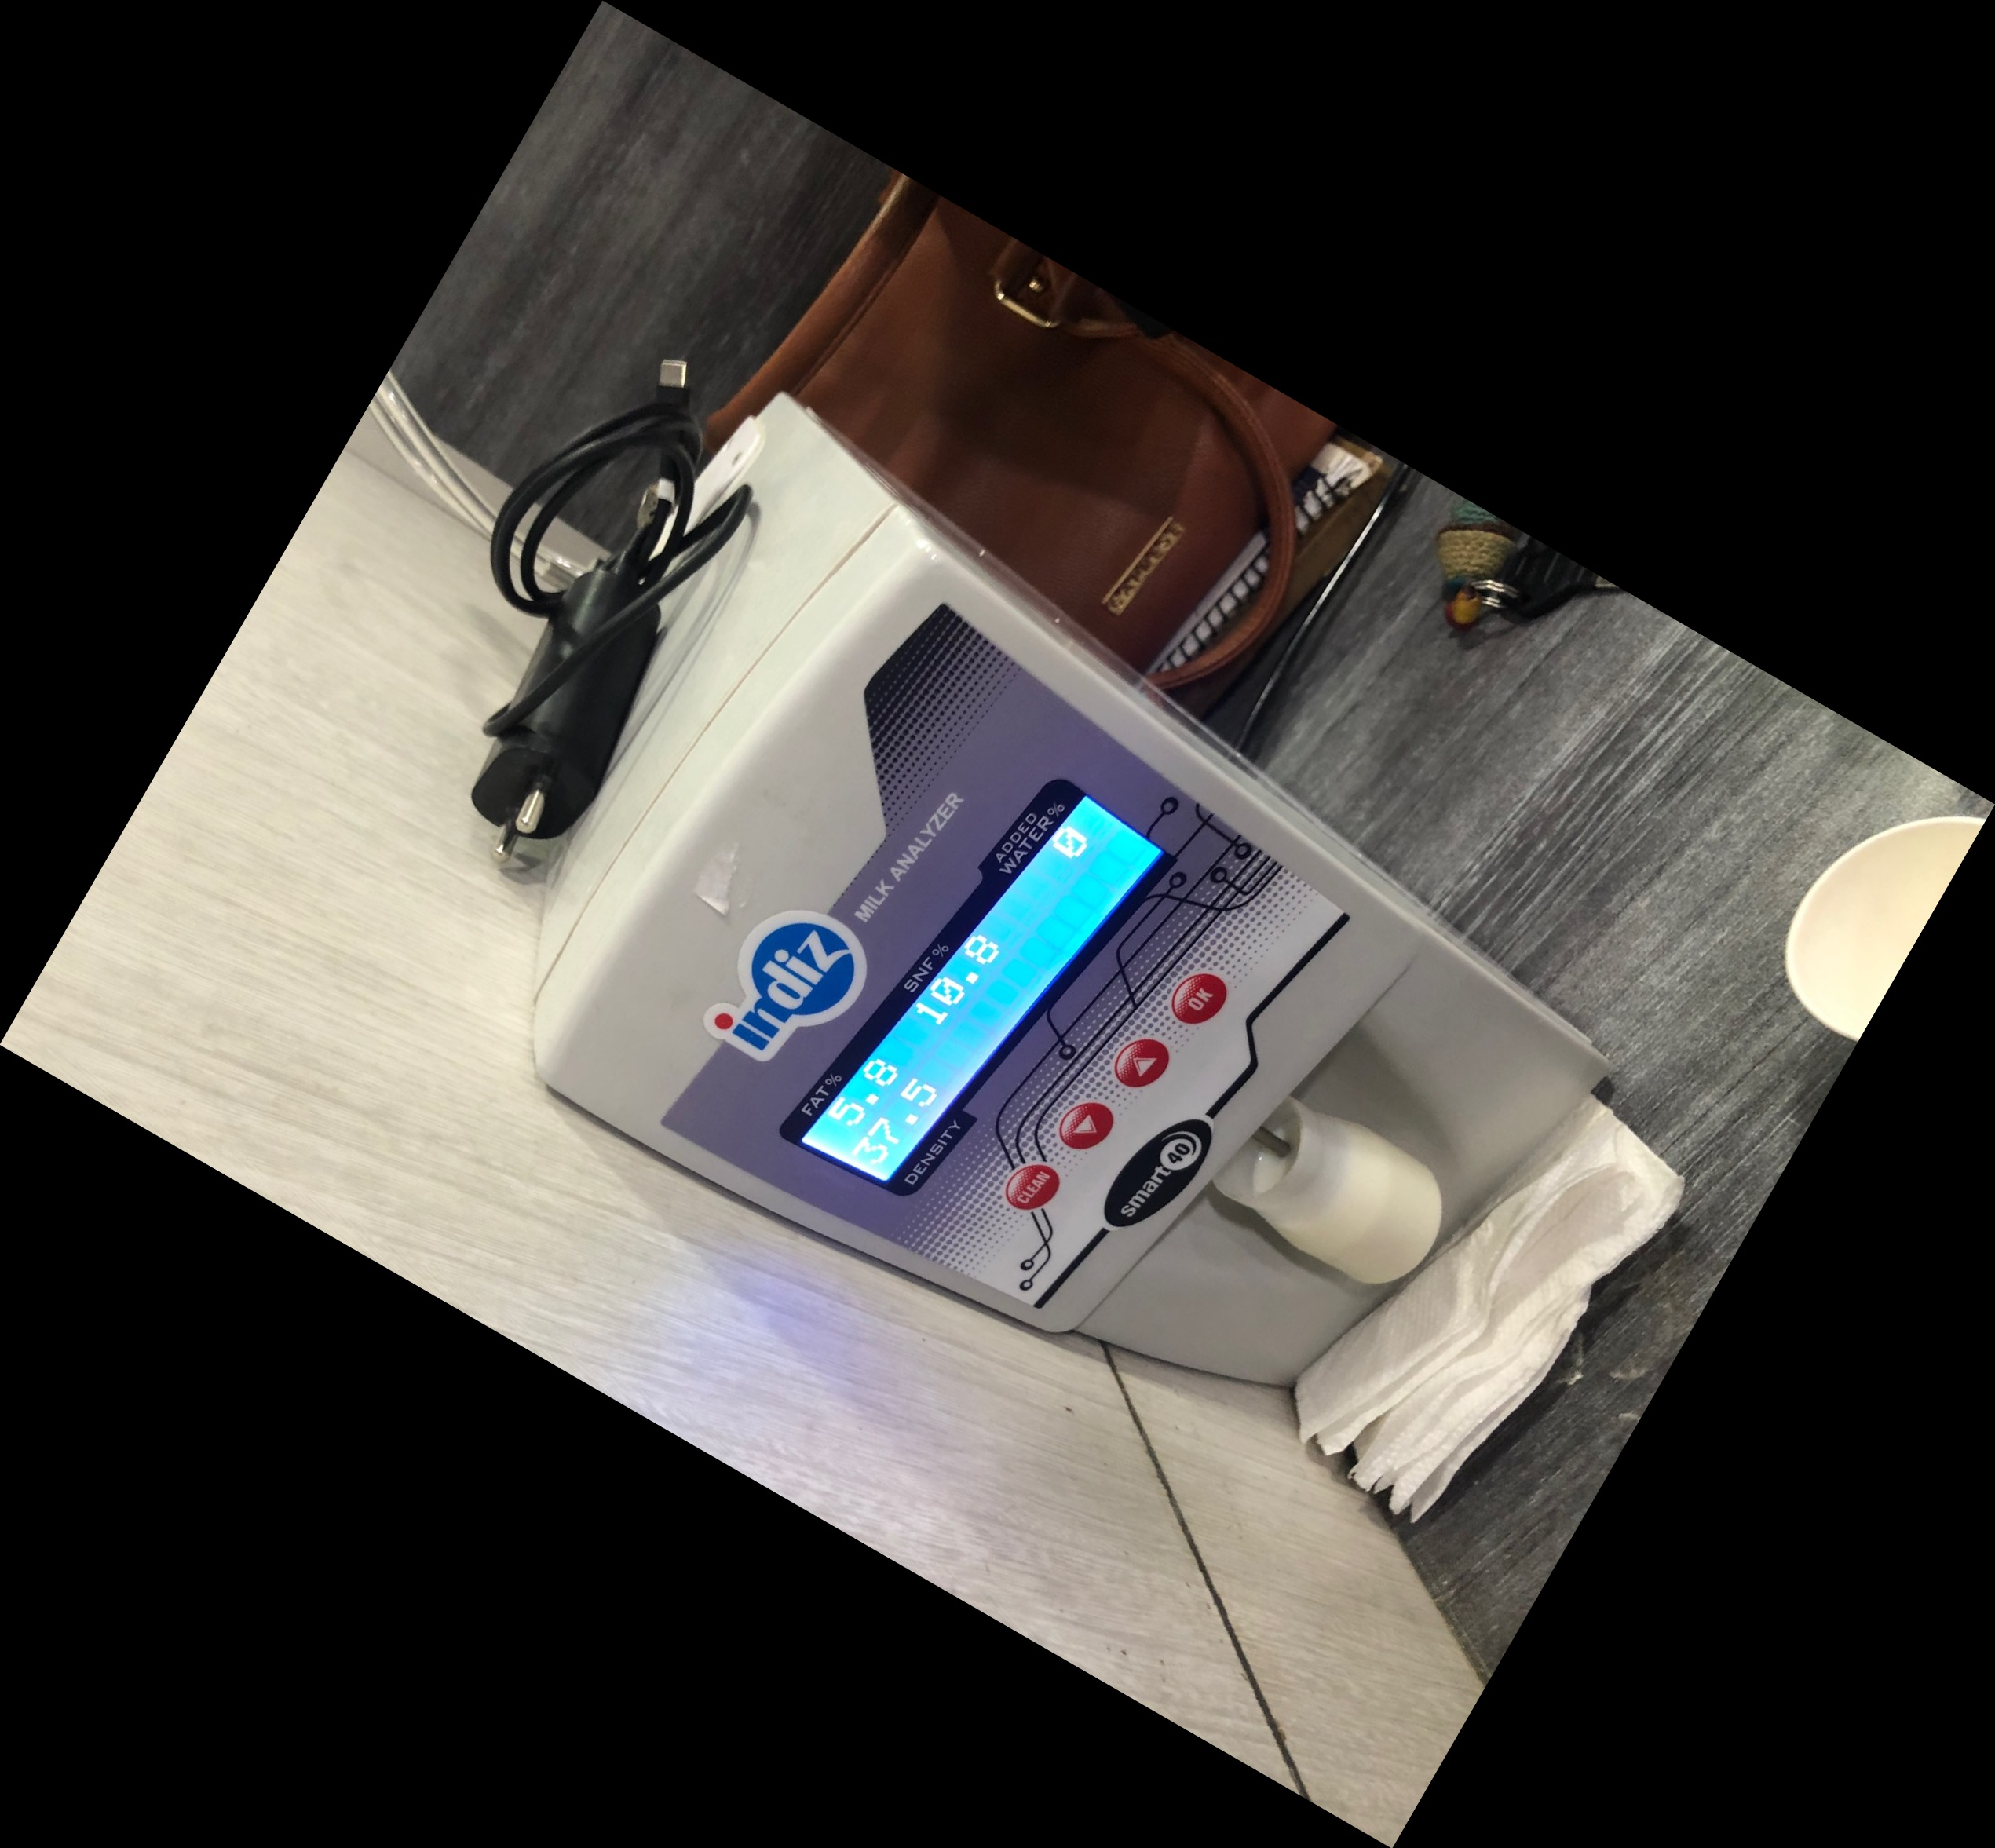lcd: (777, 764, 1196, 1212)
